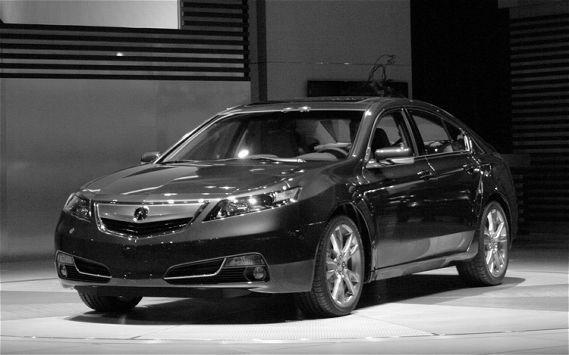car: (45, 86, 532, 334)
